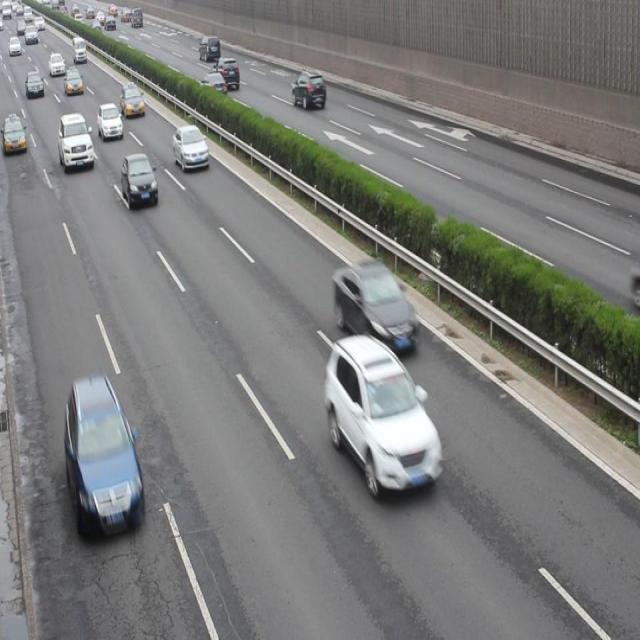car: (326, 334, 439, 494), (65, 375, 140, 539), (333, 259, 417, 354), (59, 111, 94, 172), (121, 152, 158, 208), (171, 122, 210, 174), (291, 68, 326, 112), (3, 114, 28, 158), (98, 102, 124, 141), (120, 85, 146, 120), (199, 70, 226, 102), (215, 56, 240, 90)
